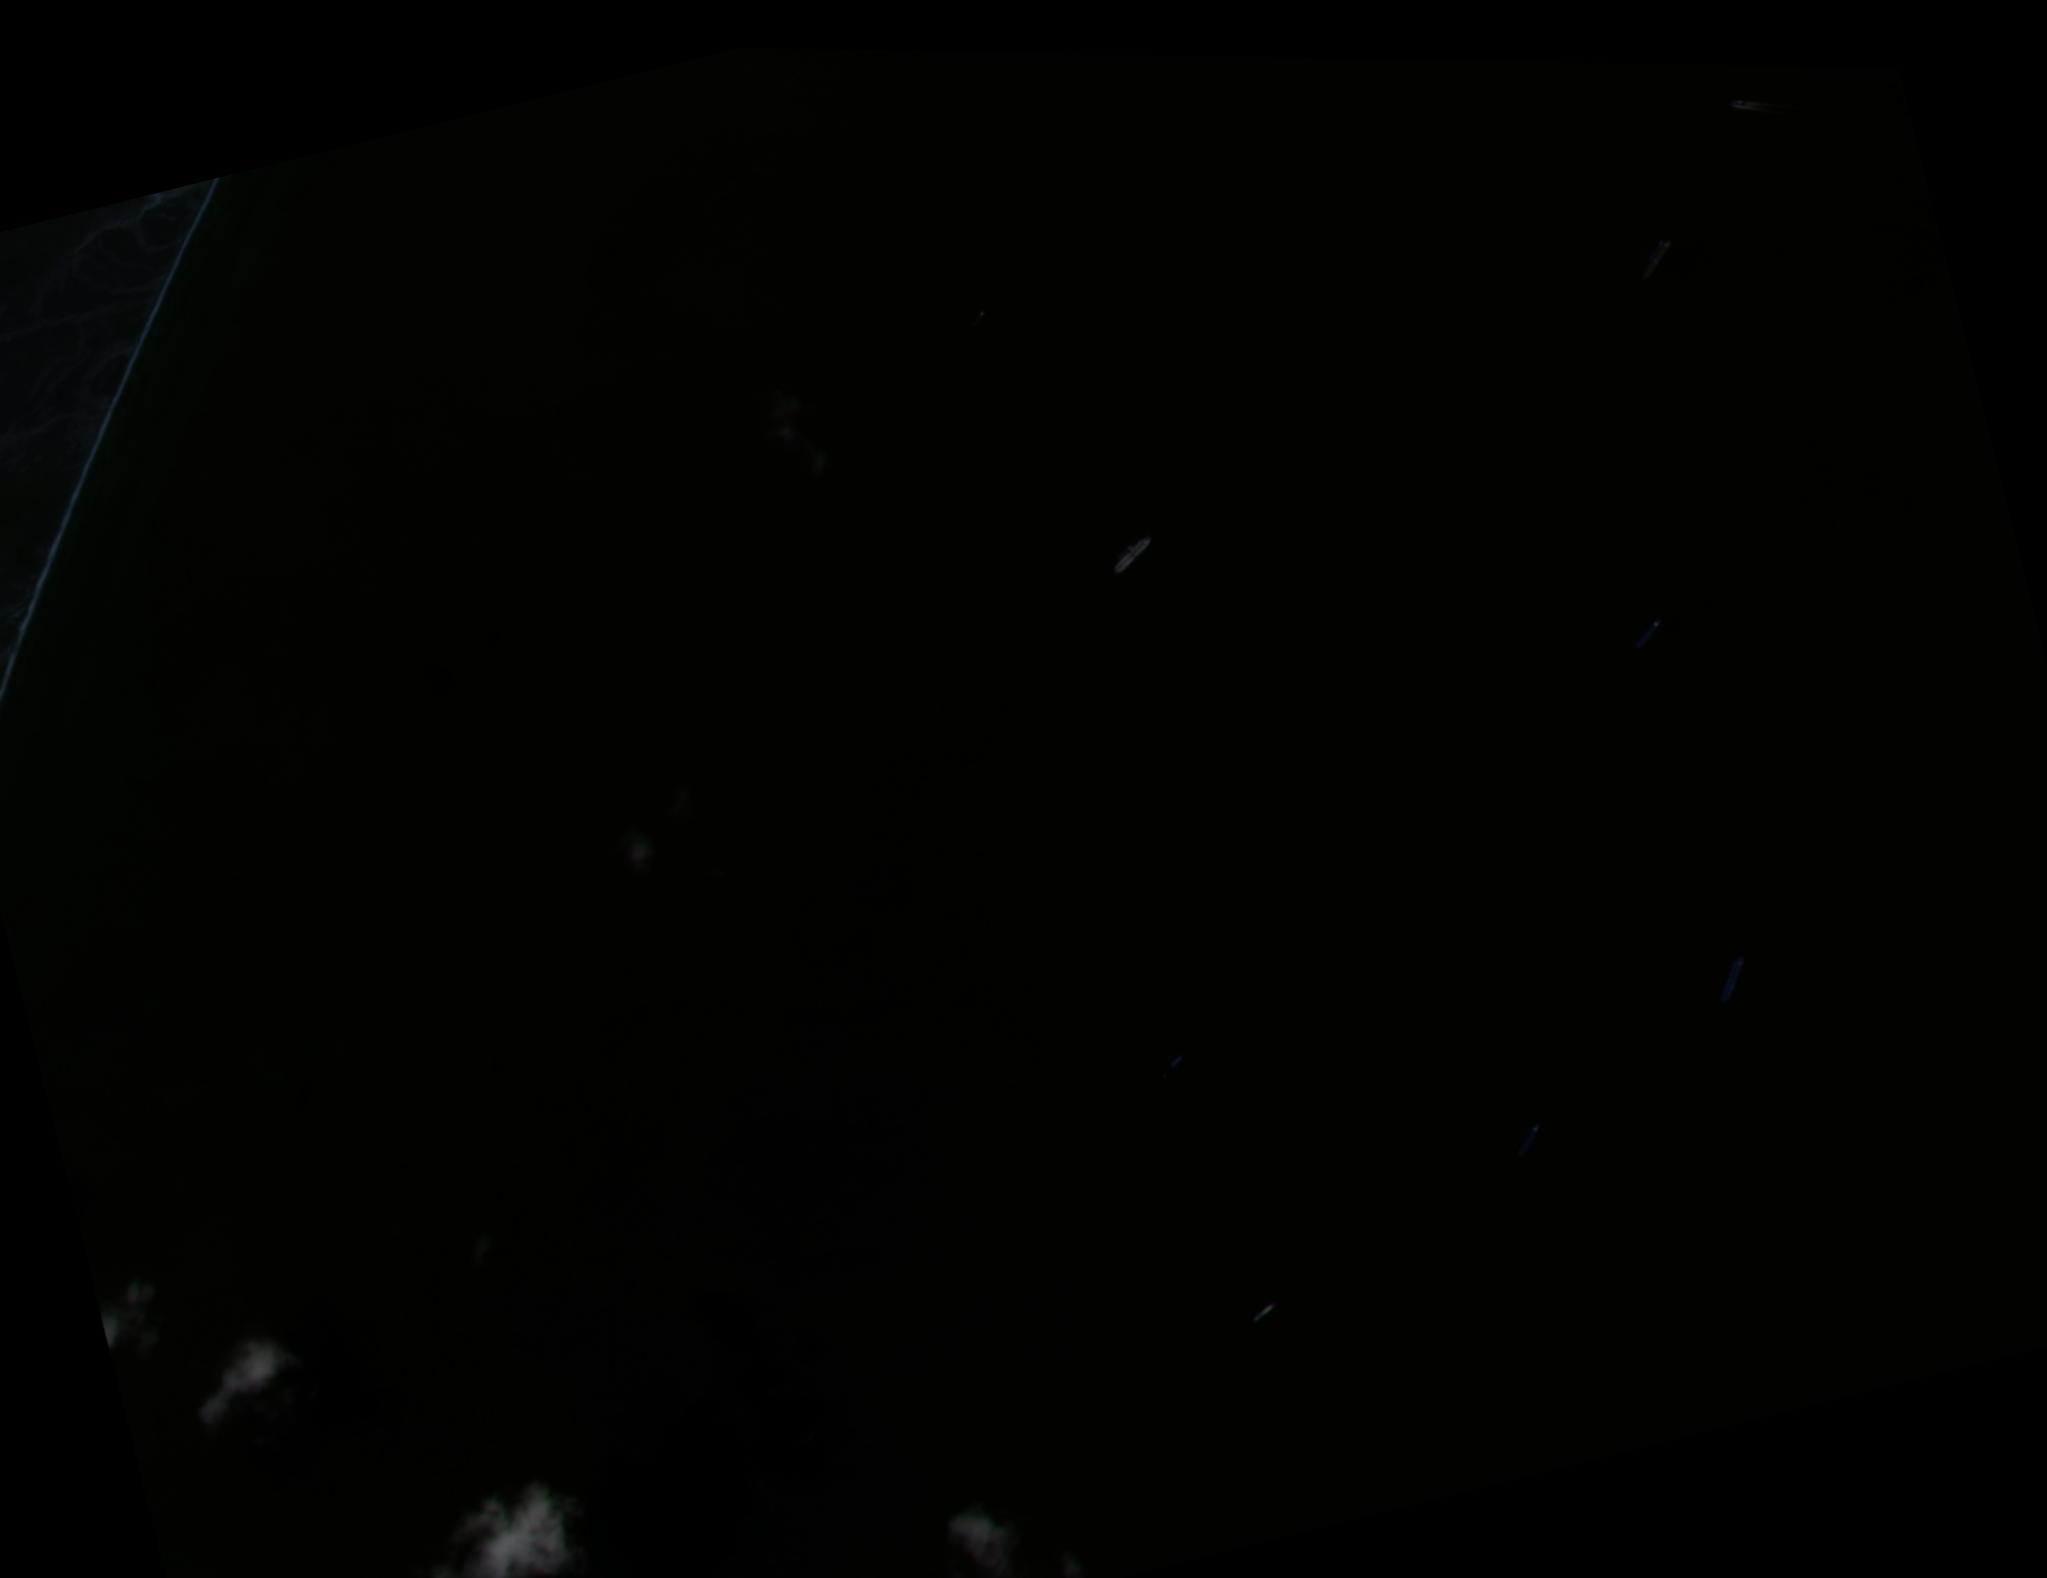ship: (0, 1323, 108, 1442), (930, 1485, 1034, 1576), (1631, 237, 1679, 285), (1711, 953, 1752, 1003), (1109, 534, 1159, 574), (1626, 615, 1667, 653), (1510, 1119, 1550, 1157), (1750, 91, 1788, 119), (496, 1465, 504, 1576), (1250, 1300, 1281, 1323), (1730, 96, 1749, 111), (1169, 1053, 1183, 1067)
